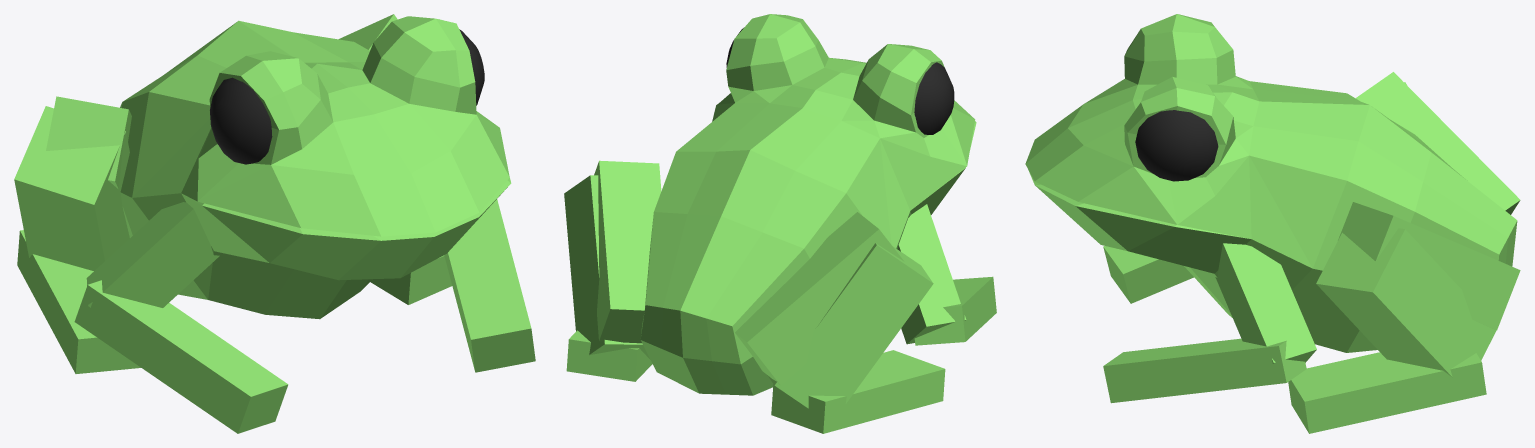
File: froggy_mesh.fbx
3 views of the same model, side by side, from view 1: azimuth 30°, elevation 25°; view 2: azimuth 150°, elevation 25°; view 3: azimuth 270°, elevation 25° (orthographic). The views are drawn at different scales.
Visible parts, largest first — view 1: frogy_mesh, Cube.002, Cube.004, Cube.005, Cube.001, Sphere, Cube.003; view 2: frogy_mesh, Cube.003, Cube.004, Cube.005, Cube.001, Cube.002, Sphere; view 3: frogy_mesh, Cube.004, Cube.003, Cube.002, Cube.005, Cube.001, Sphere.
Part boxes in pixels (x1=…): frogy_mesh: x1=120, y1=16, x2=511, y2=319; Cube.002: x1=74, y1=199, x2=535, y2=433; Cube.004: x1=14, y1=106, x2=129, y2=270; Cube.005: x1=17, y1=230, x2=452, y2=373; Cube.001: x1=86, y1=202, x2=219, y2=307; Sphere: x1=210, y1=29, x2=484, y2=164; Cube.003: x1=46, y1=14, x2=397, y2=189; frogy_mesh: x1=640, y1=14, x2=976, y2=395; Cube.003: x1=594, y1=160, x2=904, y2=385; Cube.004: x1=564, y1=175, x2=933, y2=408; Cube.005: x1=566, y1=330, x2=945, y2=433; Cube.001: x1=897, y1=204, x2=966, y2=344; Cube.002: x1=914, y1=276, x2=996, y2=345; Sphere: x1=726, y1=28, x2=954, y2=134; frogy_mesh: x1=1025, y1=14, x2=1517, y2=352; Cube.004: x1=1316, y1=82, x2=1496, y2=377; Cube.003: x1=1338, y1=72, x2=1520, y2=330; Cube.002: x1=1103, y1=246, x2=1306, y2=403; Cube.005: x1=1288, y1=352, x2=1486, y2=433; Cube.001: x1=1215, y1=243, x2=1316, y2=363; Sphere: x1=1135, y1=110, x2=1218, y2=181.
Bounding box in the file's own units: 189 × 139 × 208.
